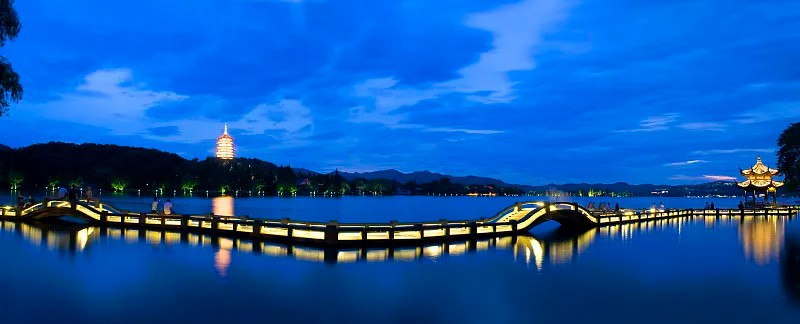Leifeng: (215, 122, 235, 161)
